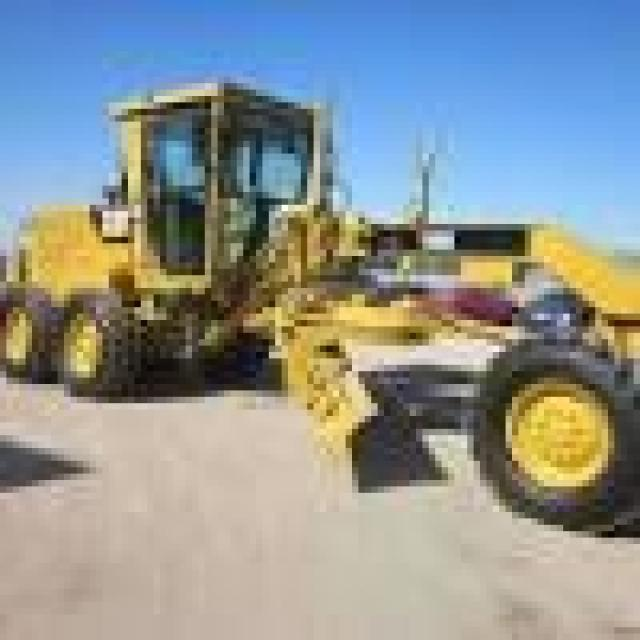Grader: (0, 32, 634, 531)
